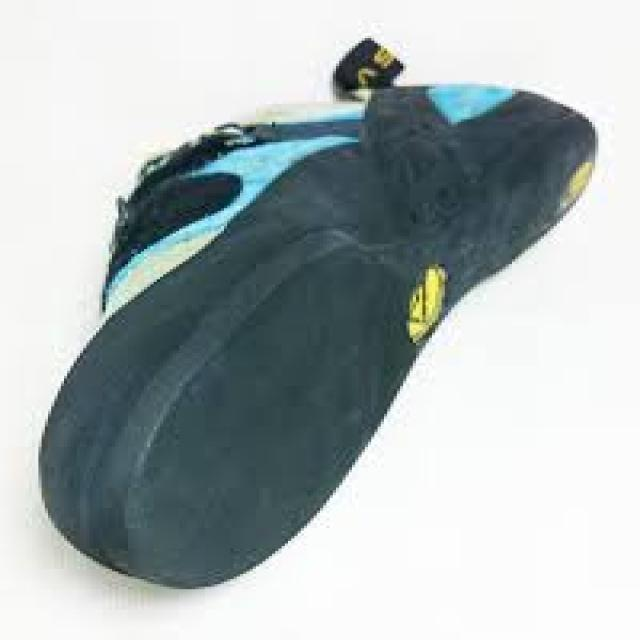climbing-shoes: (39, 84, 601, 590)
